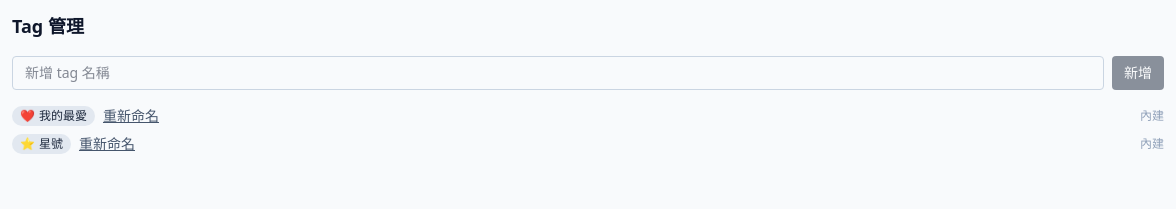
TagManager › renames a non-built-in tag
The image size is (1176, 209).
Expected: the text "我的最愛" is shown, [39, 108, 87, 124]
Type "Old" into the field with placeholder "新增 tag 名稱". click: [558, 73]
box: [12, 56, 1104, 90]
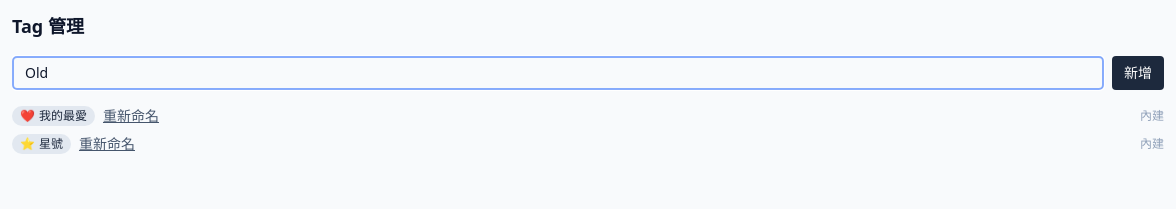
Click the button "新增". click: [1138, 73]
box: [1112, 56, 1164, 90]
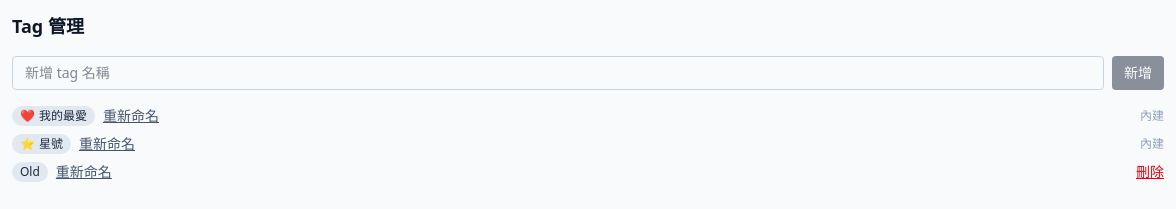
Expected: the text "Old" is shown, [20, 164, 40, 180]
Click the button "重新命名" next to "Old". click: [84, 172]
box: [56, 162, 112, 182]
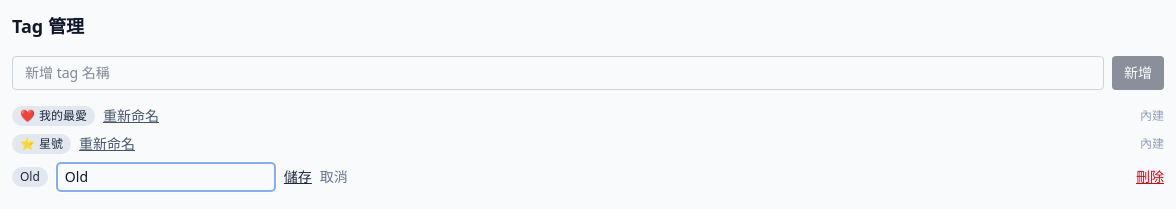
Replace the text in the field named "重新命名 Old" with "New". click: [166, 177]
box: [56, 162, 276, 192]
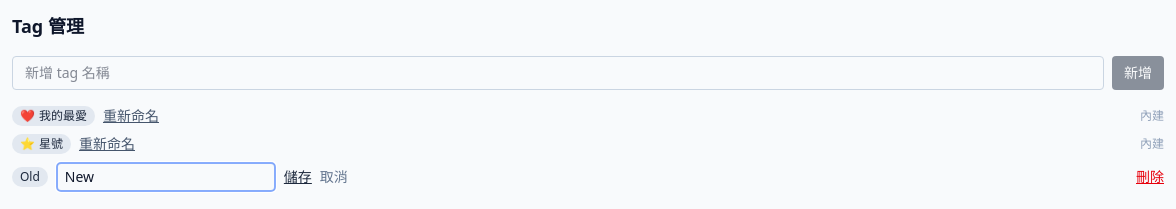
Click the button "儲存". click: [298, 177]
box: [284, 167, 312, 187]
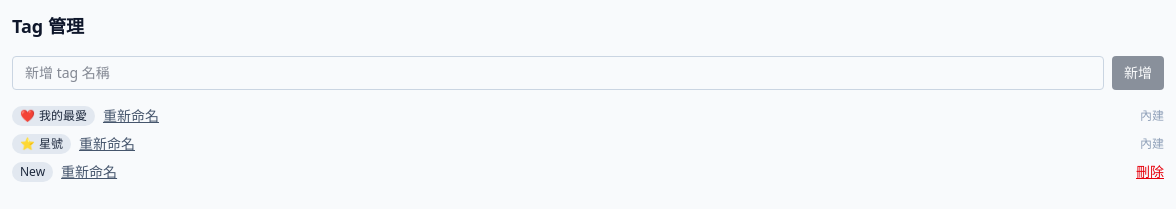
Expected: the text "New" is shown, [20, 164, 45, 180]
